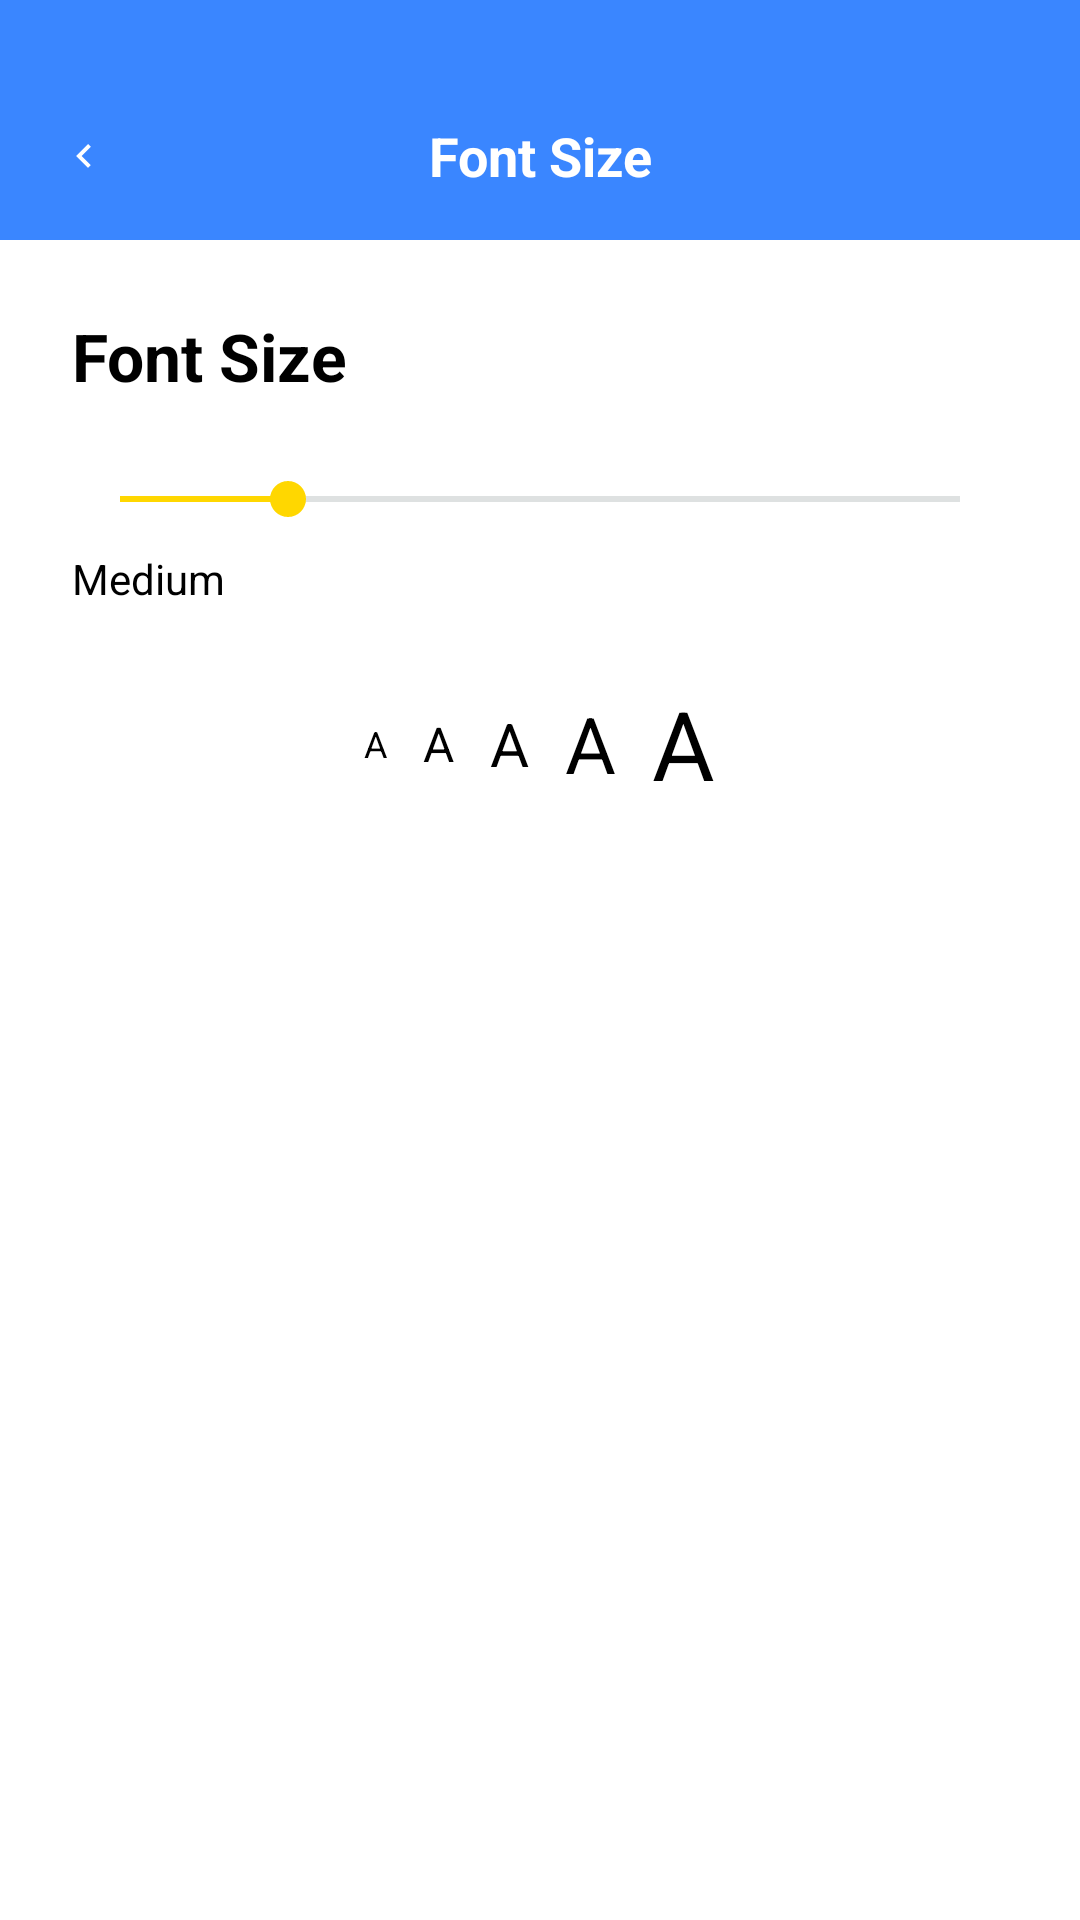

Screen size 1080×1920. Icon name, then its box in pixels as (x1, y1, x2, y2):
chevron backward: (76, 144, 91, 168)
